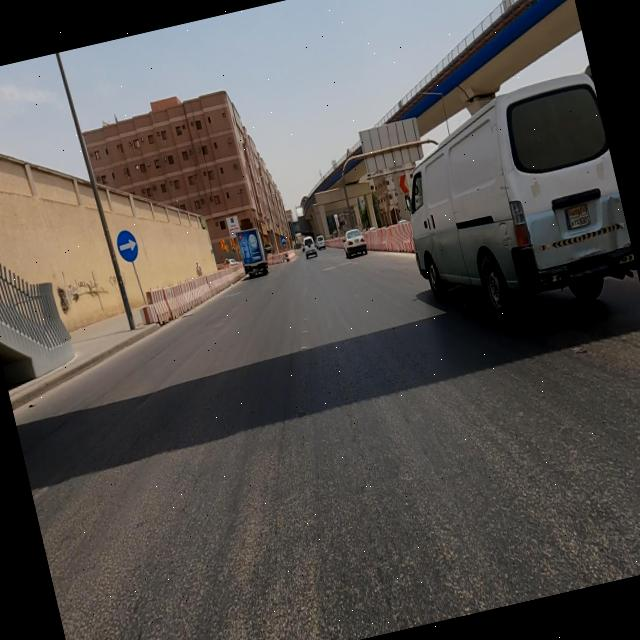Graffiti: (52, 262, 108, 315), (107, 274, 119, 292), (120, 271, 128, 287)
